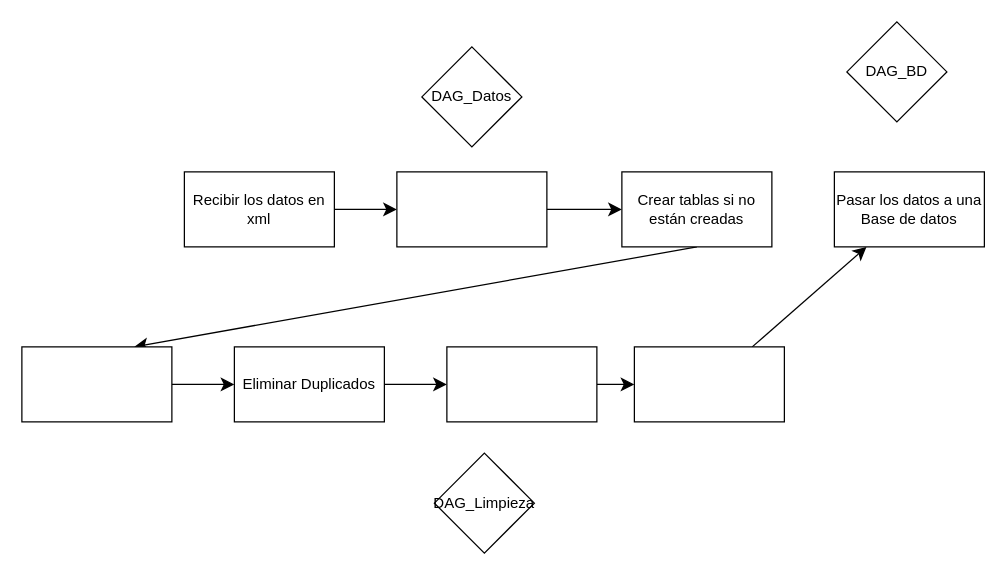
This 1006x575 diagram has some shape labels left out. Each missing label, with the box of its shape:
Convertirlos a csv: (396, 171, 547, 247)
Limpieza de campos (columnas): (21, 346, 172, 422)
Renombrar Campos: (446, 346, 597, 422)
Revisar Uniformidades: (633, 346, 784, 422)
